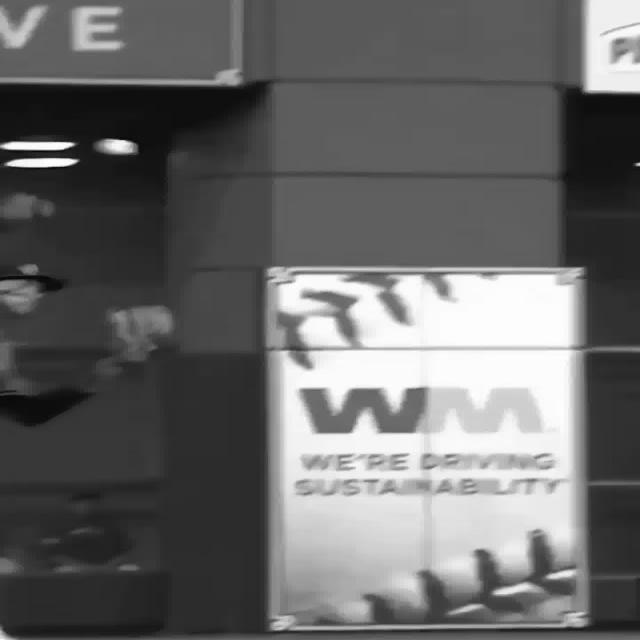baseball: (97, 140, 133, 152)
baseball_glove: (98, 302, 174, 375)
